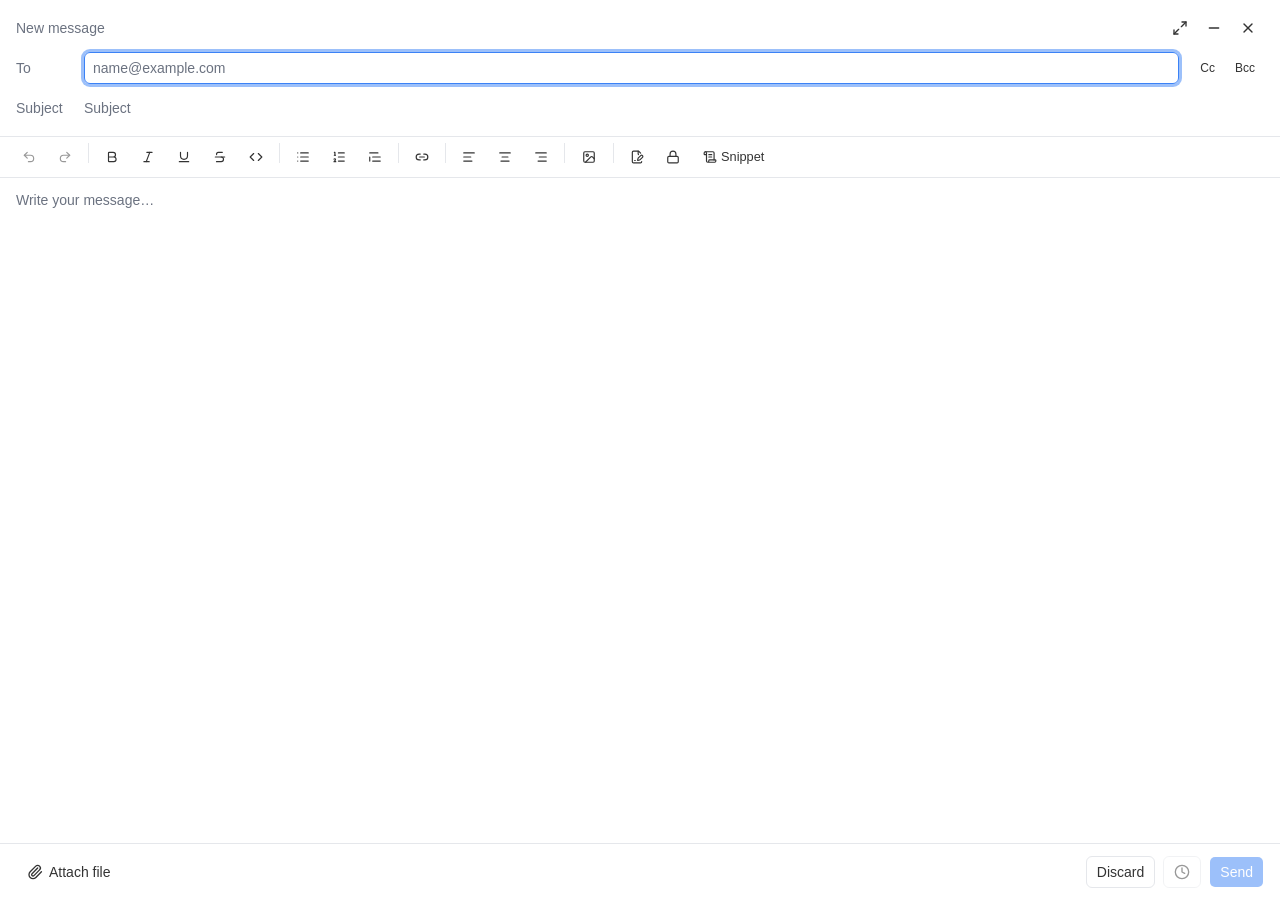
Test case: Composer schedule send (task 10.1) › the picker sits beside Send and is enabled exactly when Send is
The image size is (1280, 900).
expect the button named "Schedule send" is disabled: met, box [1163,856,1201,888]
Type "ada@example.com" into the dropdown labelled "To".
click(632, 68); type("ada@example.com")  # box [93,58,1170,78]
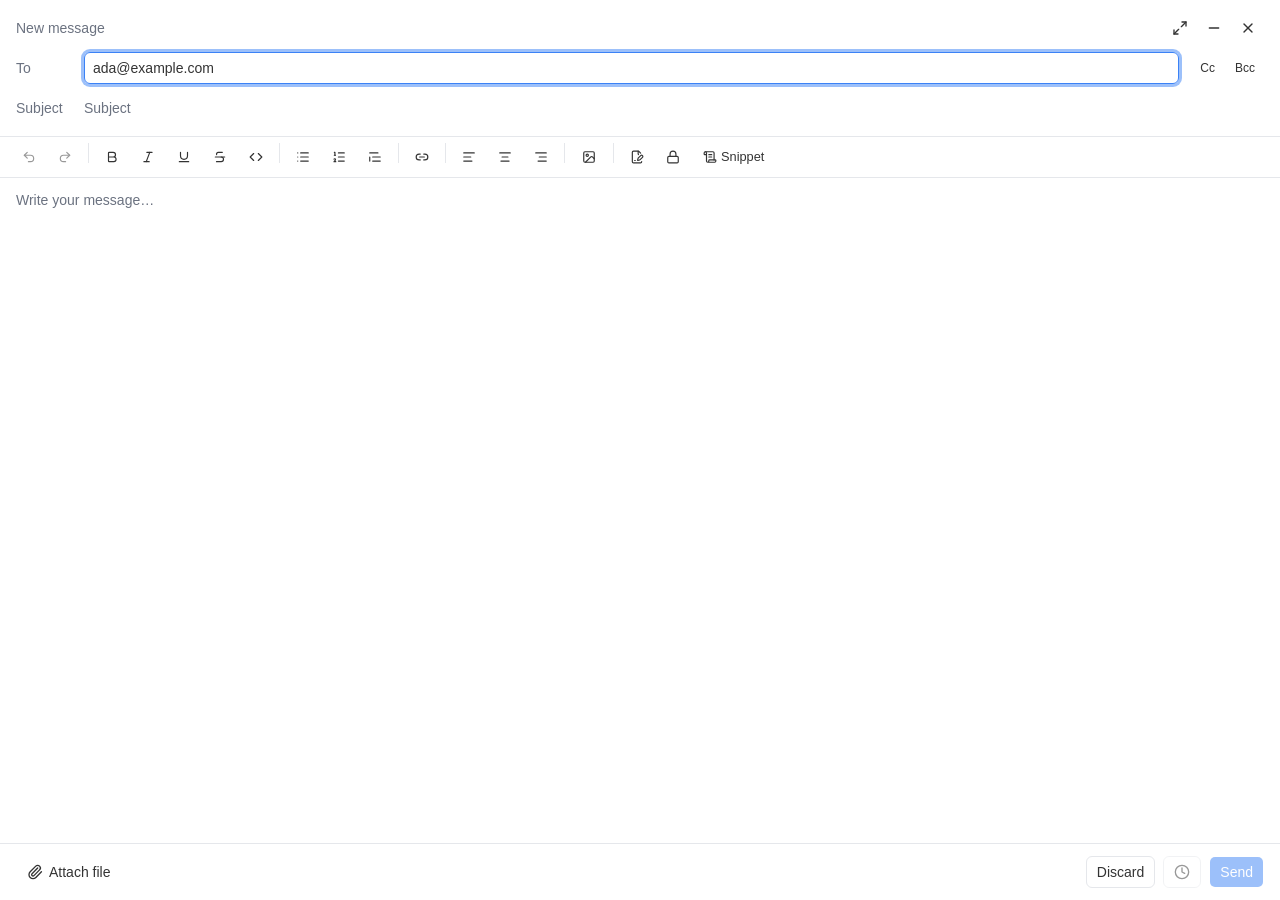
Press Enter in the dropdown labelled "To", box [93,58,1170,78]
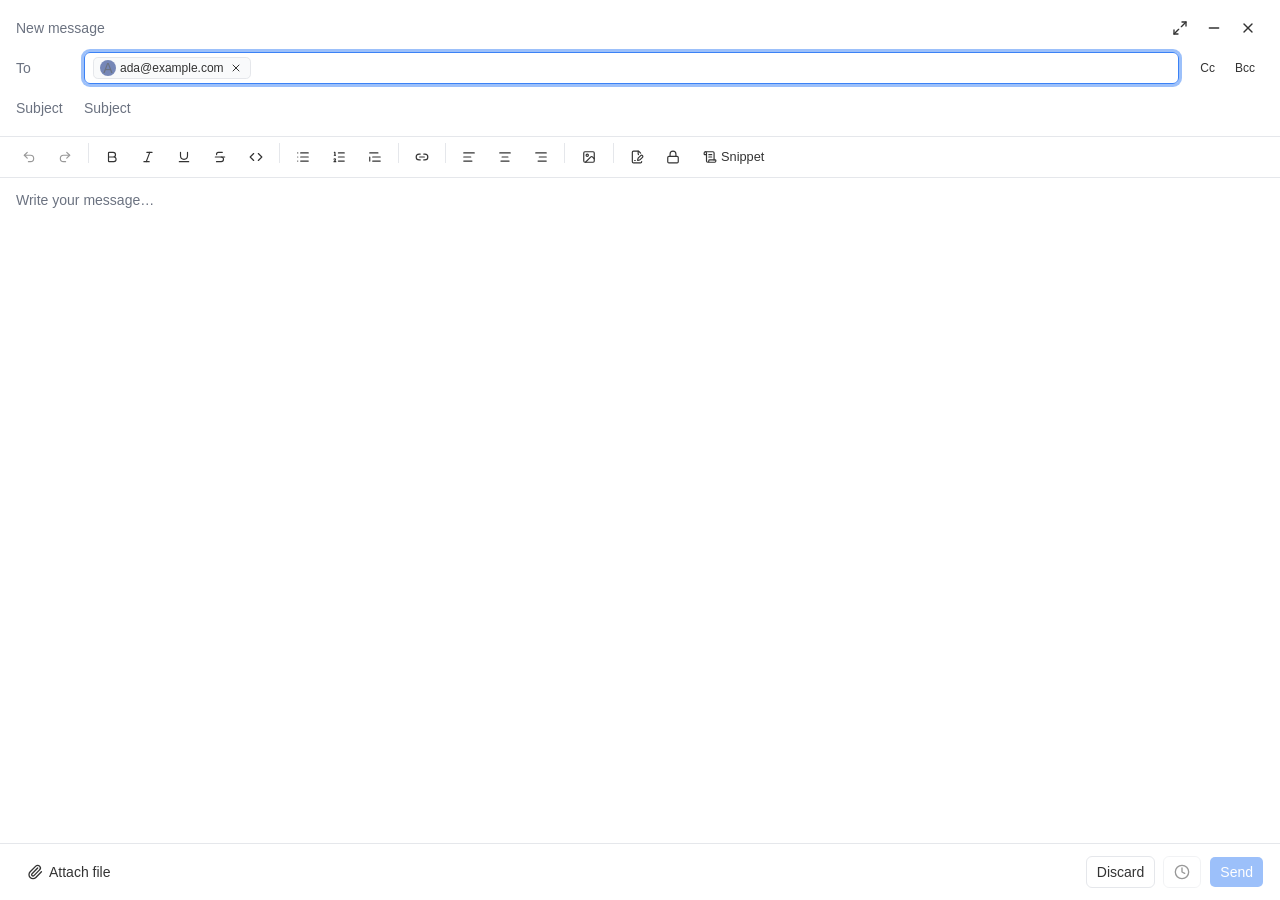
Type "Hello" into the field labelled "Subject".
click(674, 108); type("Hello")  # box [84,92,1264,124]
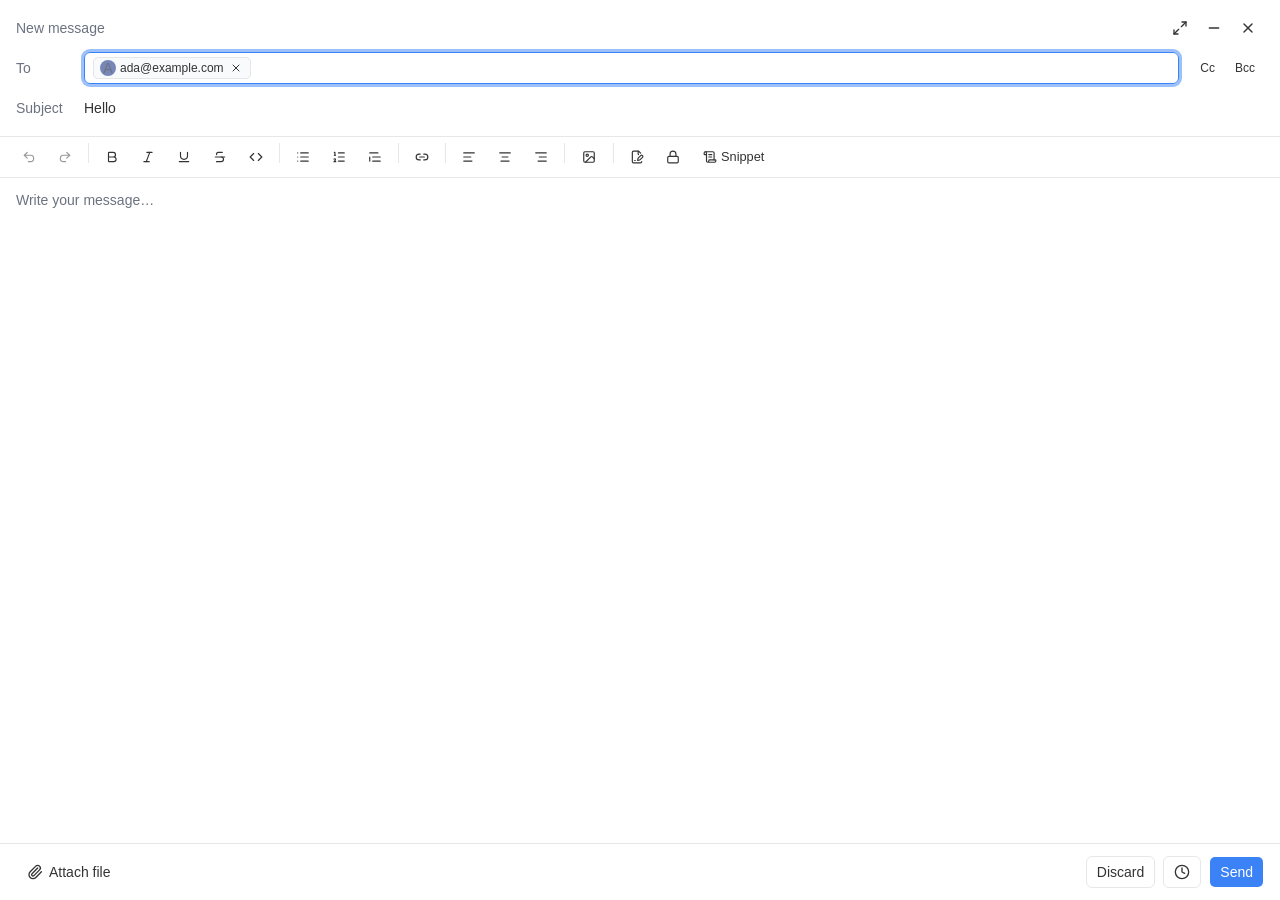
expect the button named "Schedule send" is enabled: met, box [1163,856,1201,888]
expect the button "Send" is enabled: met, box [1209,856,1264,888]
